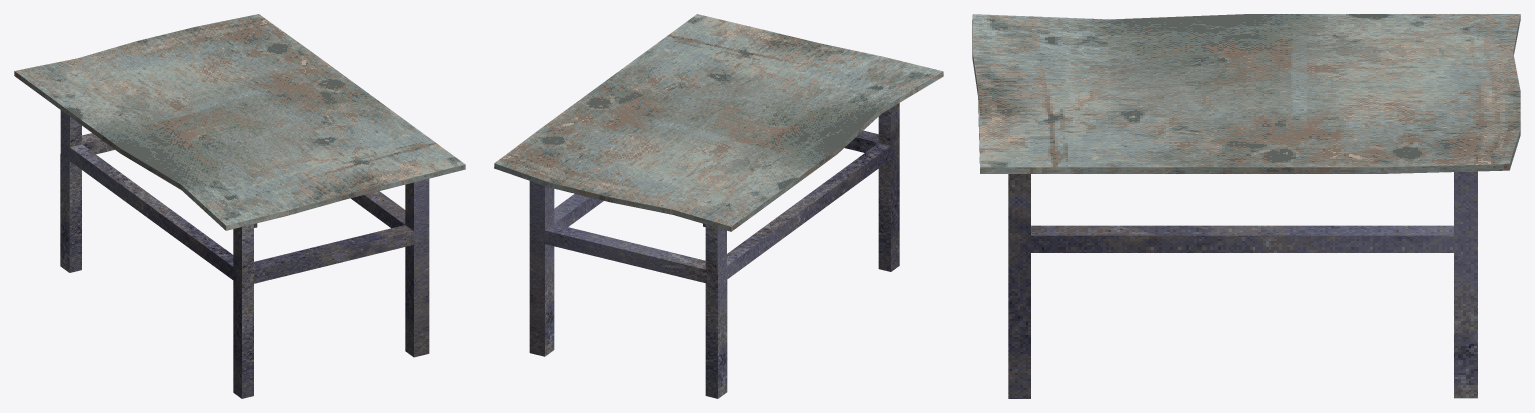
File: table.glb
3 renders of one model, left to right at view 1: azimuth 30°, elevation 25°; view 2: azimuth 150°, elevation 25°; view 3: azimuth 270°, elevation 25°, orthographic. The views are drawn at different scales.
Visible parts, largest first — view 1: Plane, Cube.001; view 2: Plane, Cube.001; view 3: Plane, Cube.001.
Boxes of the visible parts, box(x1,y1,x2,y2) form: Plane: box(14, 14, 465, 230); Cube.001: box(60, 110, 429, 398); Plane: box(494, 14, 943, 231); Cube.001: box(529, 103, 899, 398); Plane: box(972, 14, 1520, 173); Cube.001: box(1008, 171, 1477, 398).
Bounding box in the file's own units: 0.9811 × 0.76 × 1.48.
2 materials, 2 textured.
